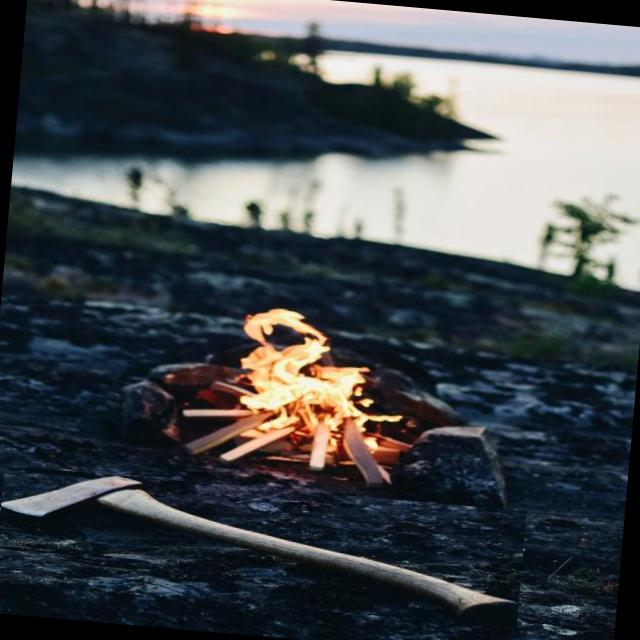Axe: (1, 476, 517, 625)
